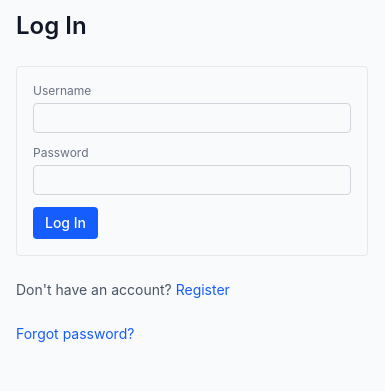
Test: LoginPage › shows the API error message on failed login
This screenshot has width=385, height=391.
Type "alice" into the field labelled "Username" at point(192, 118), box [33,103,351,133]
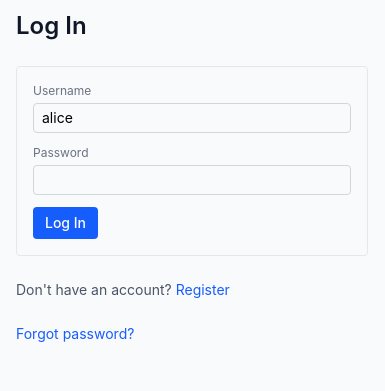
Type "wrong" into the password field labelled "Password" at point(192, 180), box [33,165,351,195]
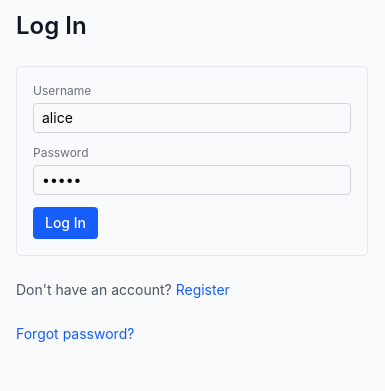
Click the button "Log In" at point(66, 223), box [33,207,98,239]
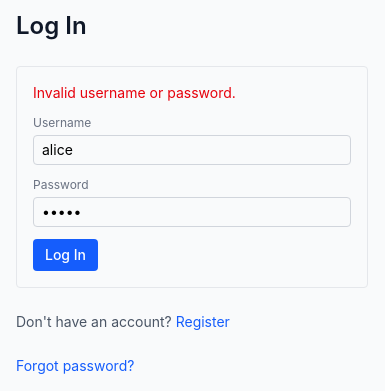
Expected: the text "Invalid username or password." is shown, [33,84,236,101]
